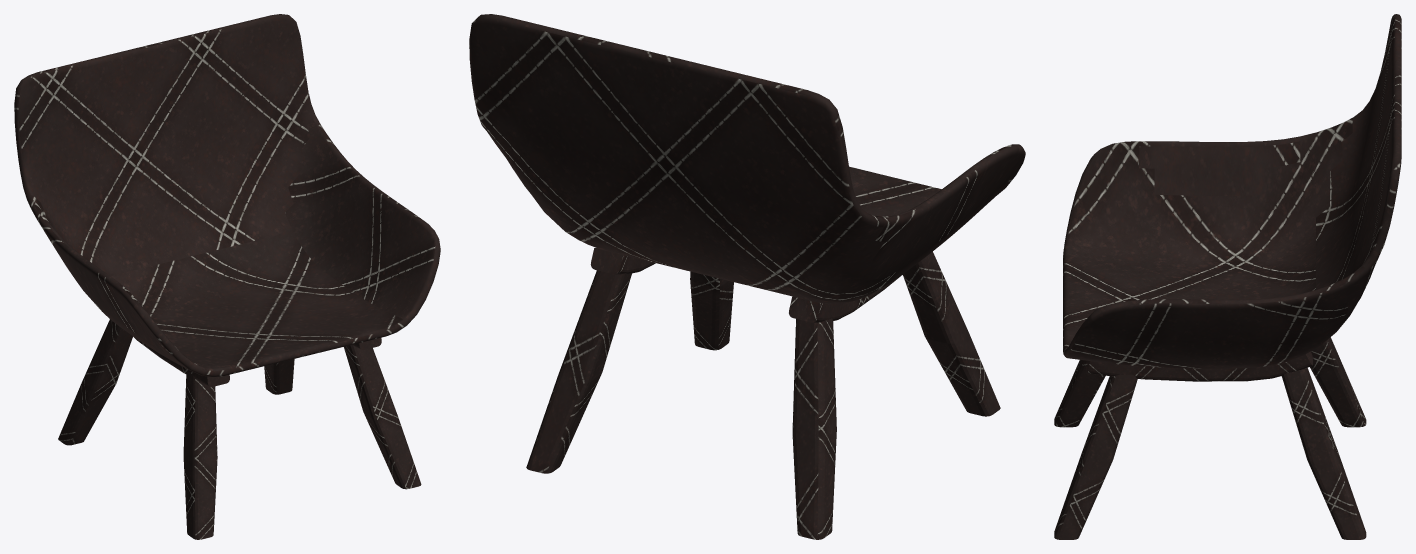
Rendered from sillon3.fbx.
The picture shows the model from 3 angles, left to right: view 1: azimuth 30°, elevation 25°; view 2: azimuth 150°, elevation 25°; view 3: azimuth 270°, elevation 25°; orthographic projection. The views are drawn at different scales.
Parts seen in each view (by area): view 1: Cube; view 2: Cube; view 3: Cube.
Boxes of the visible parts, left/top/right/bottom form: Cube: left=14, top=14, right=440, bottom=539; Cube: left=469, top=14, right=1025, bottom=539; Cube: left=1054, top=14, right=1401, bottom=539.
Bounding box in the file's own units: 211 × 237 × 188.
1 material, 1 textured.
